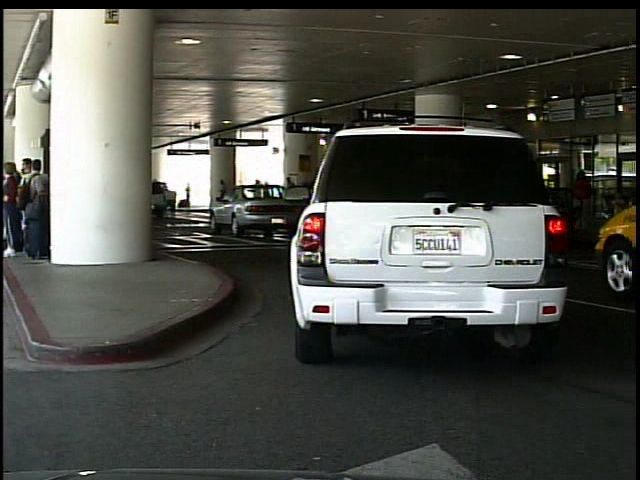person: (568, 164, 597, 204), (219, 175, 231, 210), (185, 181, 193, 208)
